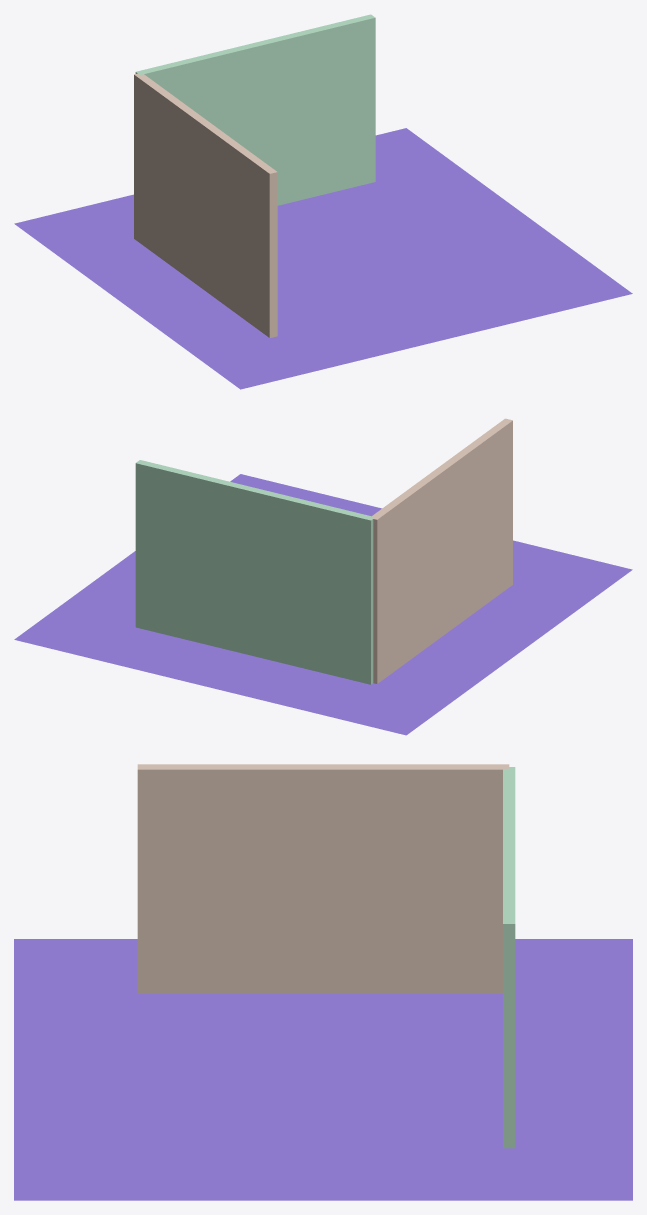
Rendered from room.glb.
The picture shows the model from 3 angles, top to bottom: view 1: azimuth 30°, elevation 25°; view 2: azimuth 150°, elevation 25°; view 3: azimuth 270°, elevation 25°; orthographic projection. The views are drawn at different scales.
Visible parts, largest first — view 1: Plane, RightWall, LeftWall; view 2: RightWall, Plane, LeftWall; view 3: Plane, LeftWall, RightWall.
Part boxes in pixels (<box>): Plane: <box>14,128,632,389</box>; RightWall: <box>135,14,375,205</box>; LeftWall: <box>134,73,277,337</box>; RightWall: <box>135,460,373,684</box>; Plane: <box>14,474,632,735</box>; LeftWall: <box>370,418,512,683</box>; Plane: <box>14,939,632,1200</box>; LeftWall: <box>137,764,509,993</box>; RightWall: <box>503,767,515,1148</box>.
Bounding box in the file's own units: 10 × 4 × 10.
